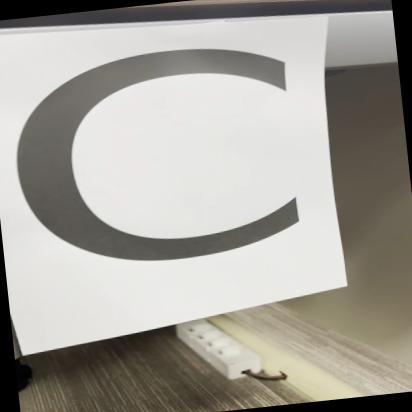seat: (0, 3, 344, 349)
